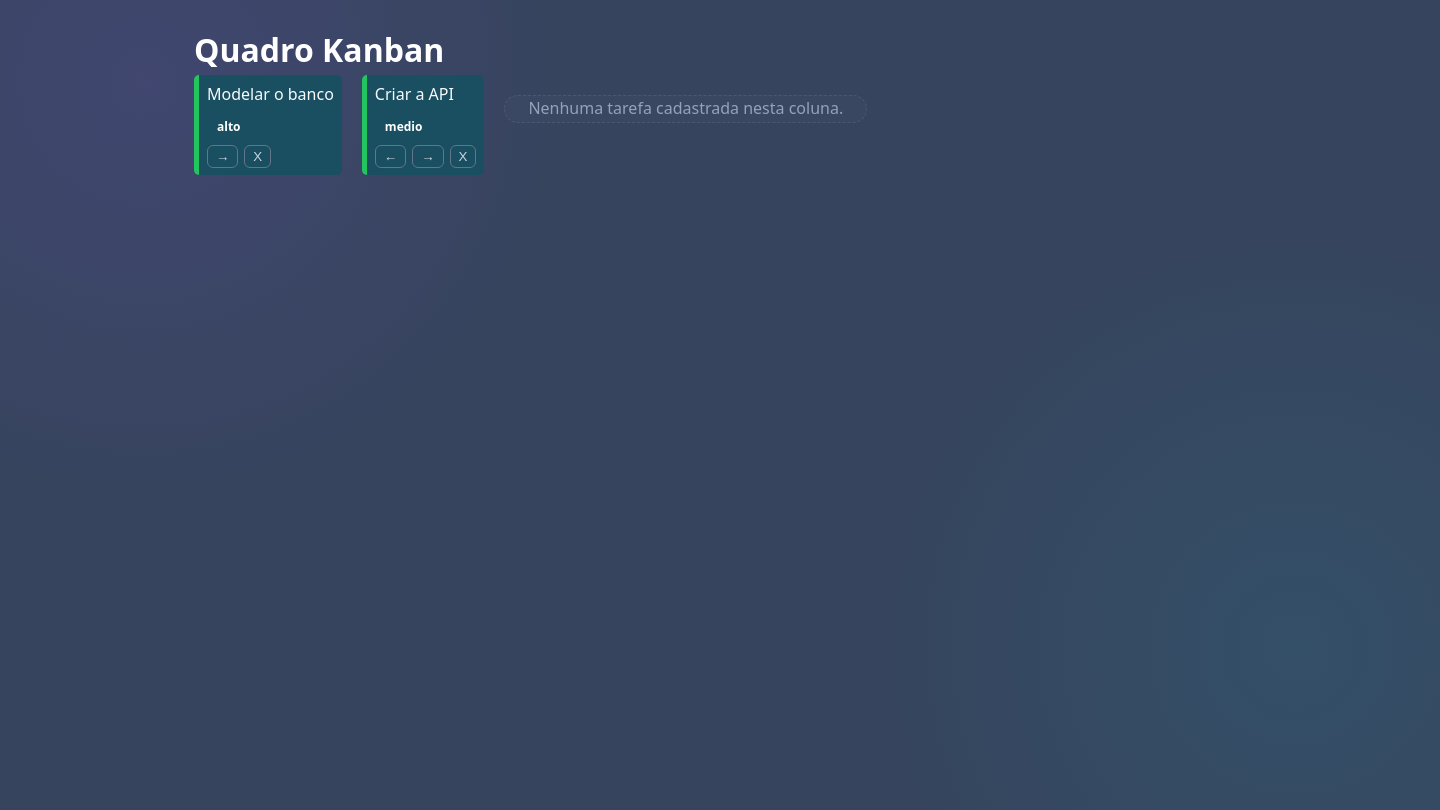
Test: Kanban › clicar no X da primeira tarefa chama api.delete e a tarefa some
Check: the text "Modelar o banco" is shown, box [207,82,334,108]
Click the button "X" below "Modelar o banco" at (258, 156), box [244,145,271,168]
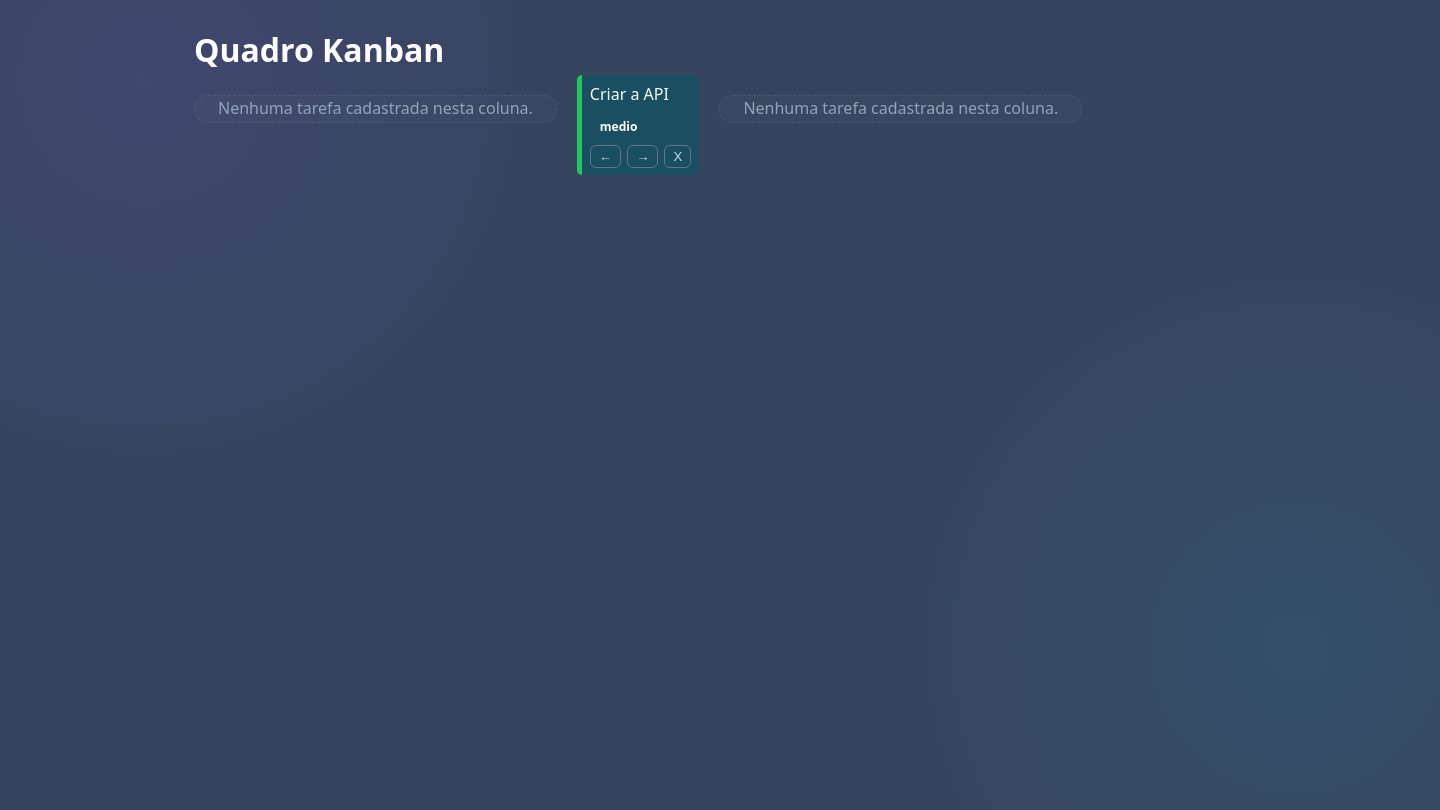
Check: the text "Modelar o banco" is gone
